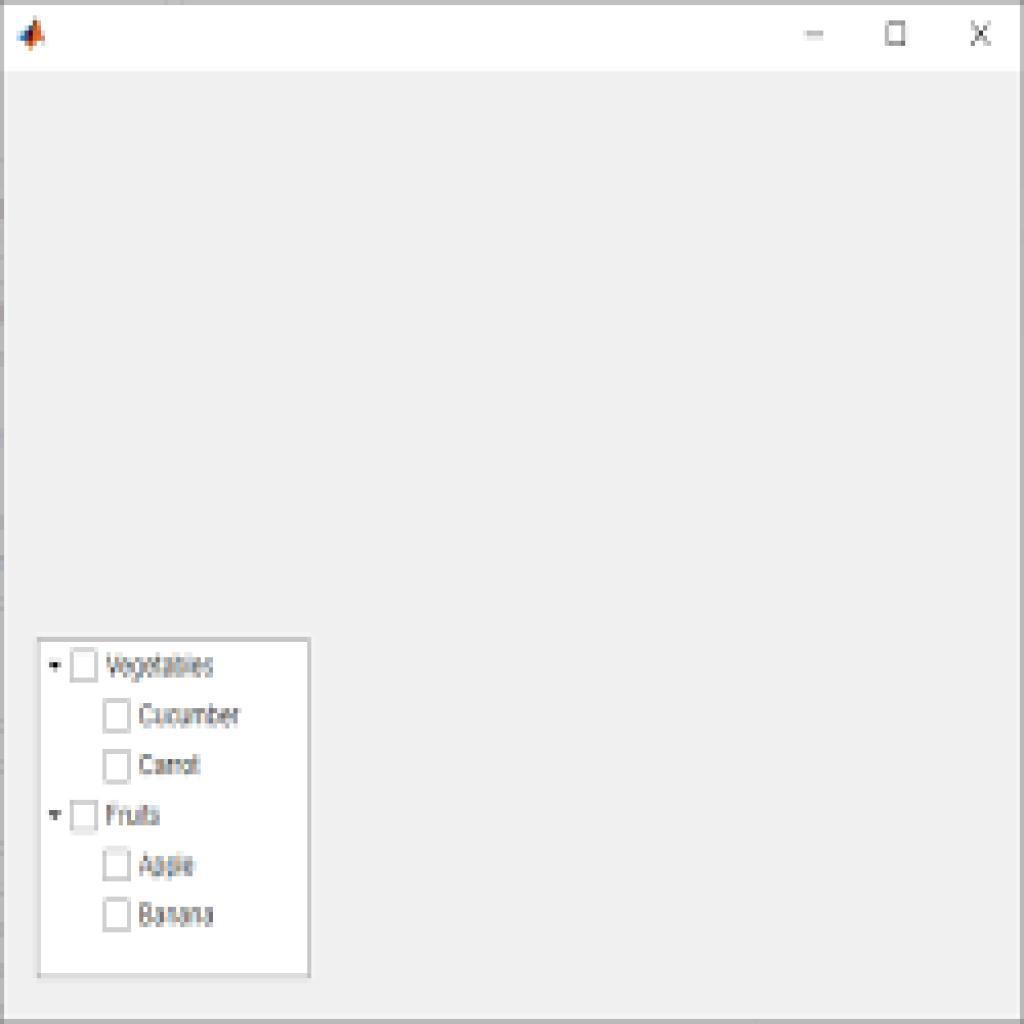checkbox: (105, 748, 133, 787), (70, 800, 99, 837), (104, 897, 133, 933), (104, 847, 131, 885), (104, 698, 132, 732), (71, 651, 100, 681)
label: (104, 650, 222, 686), (136, 696, 247, 731), (140, 900, 217, 929), (106, 800, 167, 831), (140, 852, 199, 881), (139, 754, 201, 779)
